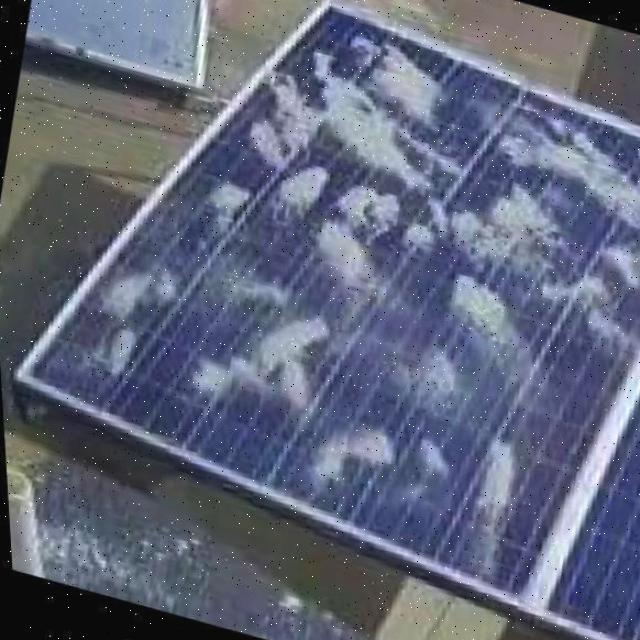Anomaly Solar Panel: (21, 0, 640, 640)
Snow: (183, 32, 499, 345), (436, 148, 640, 365), (169, 255, 338, 443), (466, 84, 640, 227), (55, 245, 195, 387), (298, 410, 449, 528), (425, 267, 552, 399), (329, 33, 454, 136), (454, 426, 524, 585), (372, 329, 472, 429), (194, 170, 258, 238)
